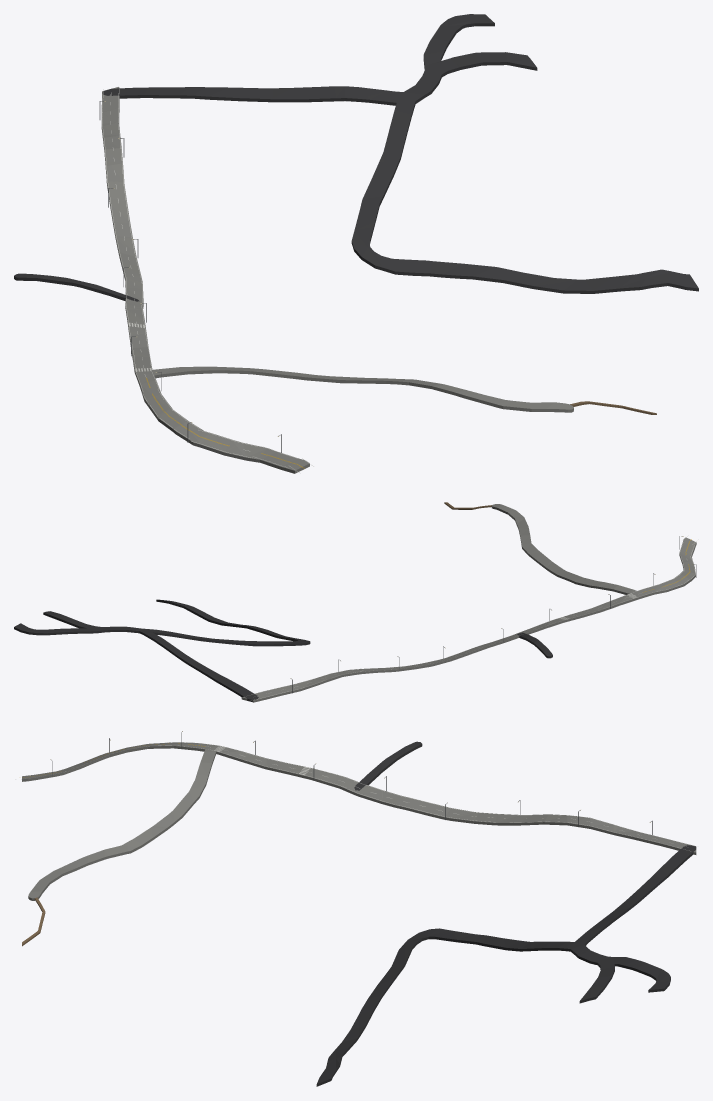
3 views of the same model, one above another, from view 1: azimuth 30°, elevation 25°; view 2: azimuth 150°, elevation 25°; view 3: azimuth 270°, elevation 25° (orthographic). The views are drawn at different scales.
Size of the model in its own units: 262 by 52.99 by 296.
